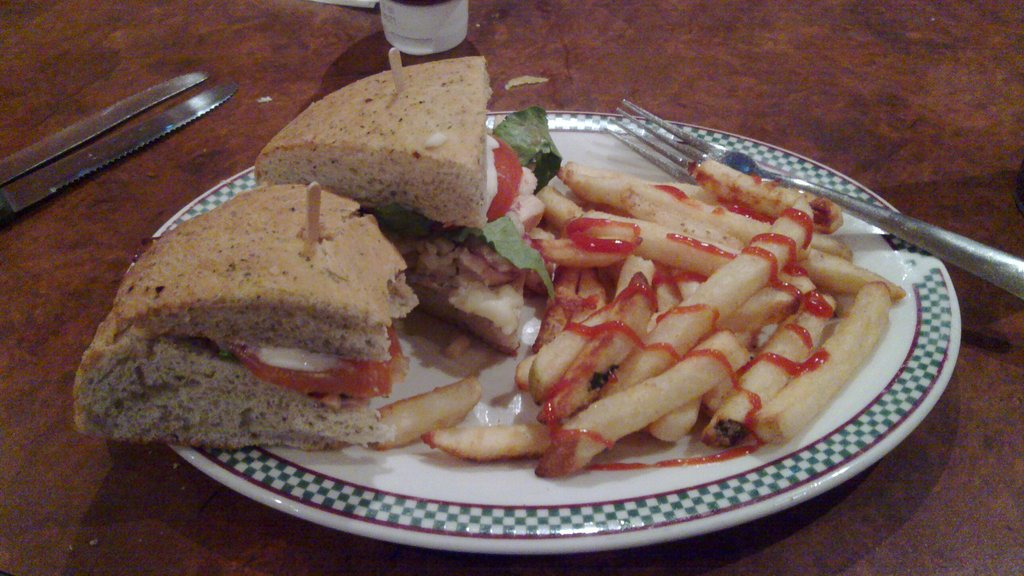French fries: (515, 157, 901, 477), (742, 283, 895, 456), (696, 141, 837, 242), (361, 372, 484, 455), (420, 413, 554, 468)
